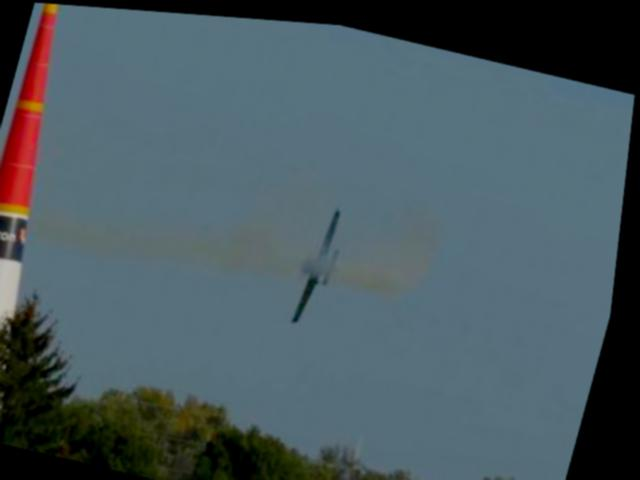uav: (287, 194, 361, 328)
